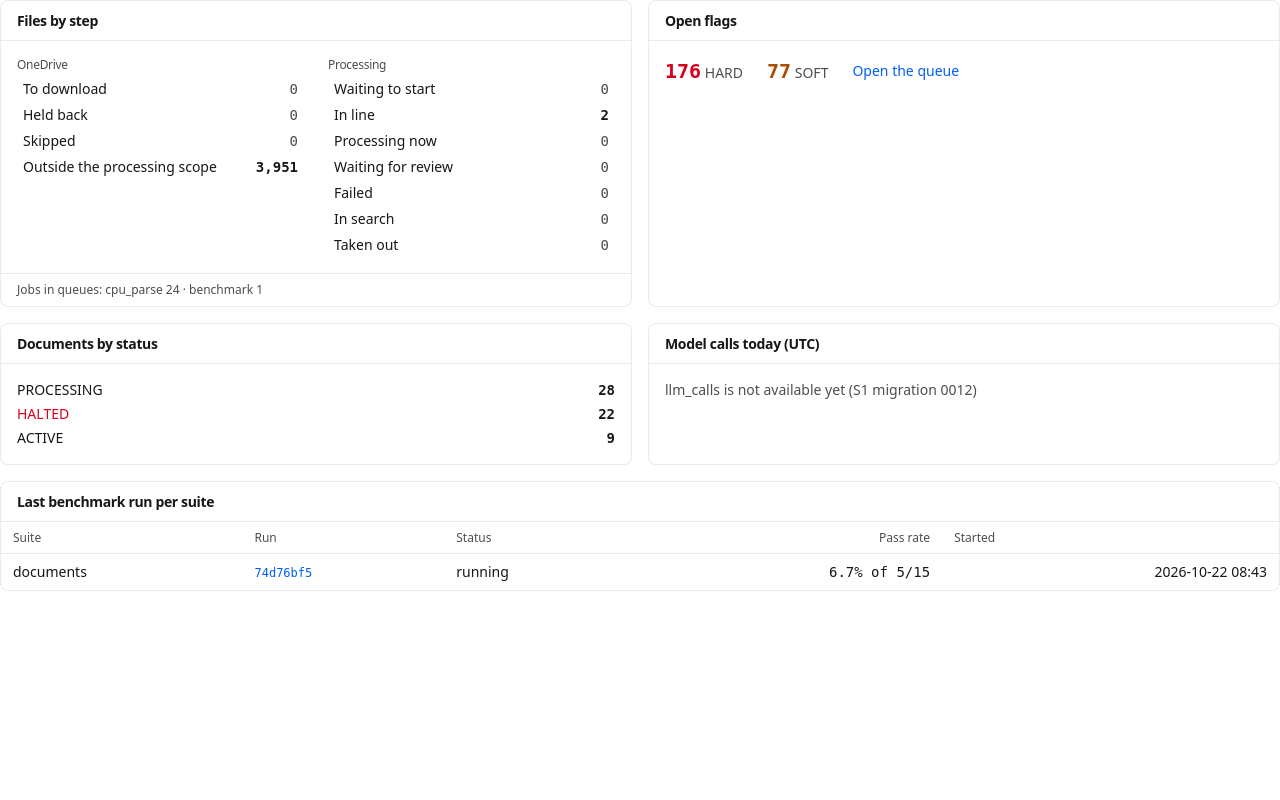
it: OpsOverview › lists the files of a step when its count is clicked
The image size is (1280, 800).
Click the button "In line 2" at (354,114), box [328,103,615,127]
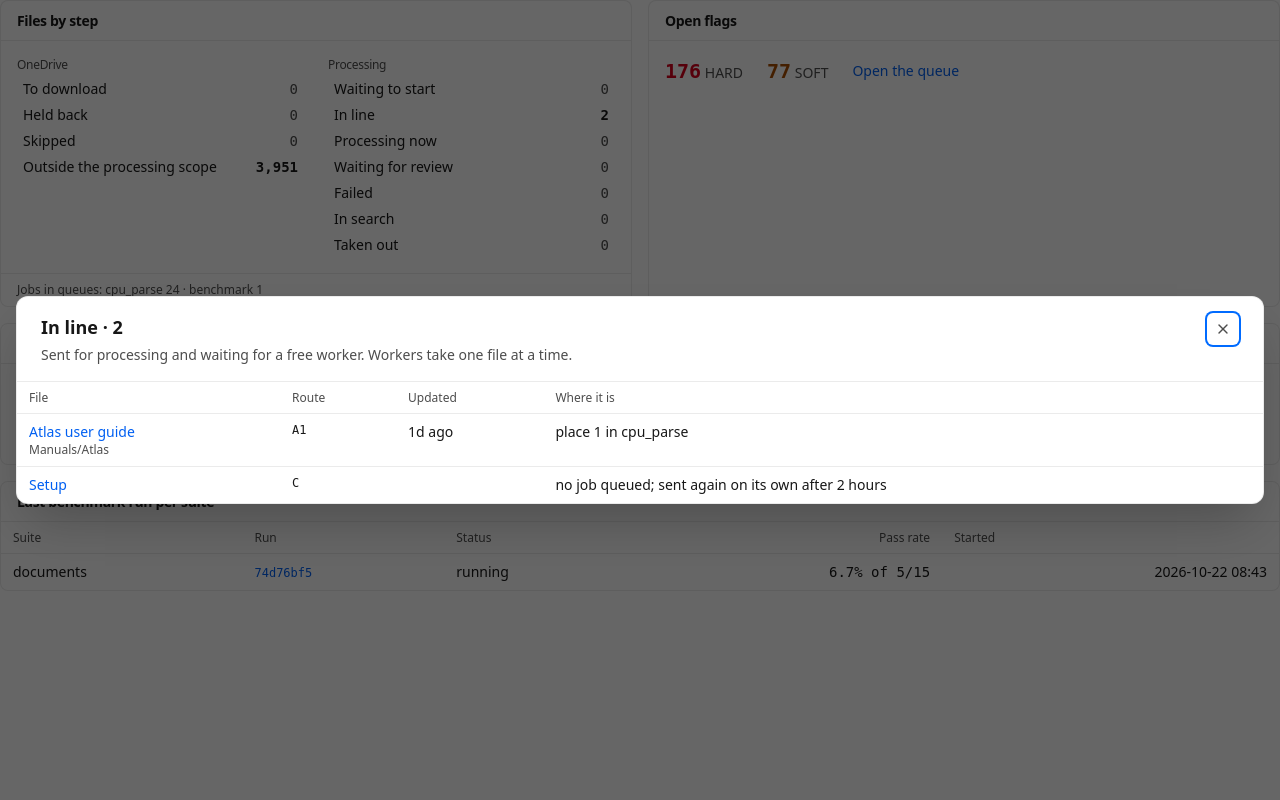
Now the heading "In line · 2" is shown, box [41,315,123,339]
